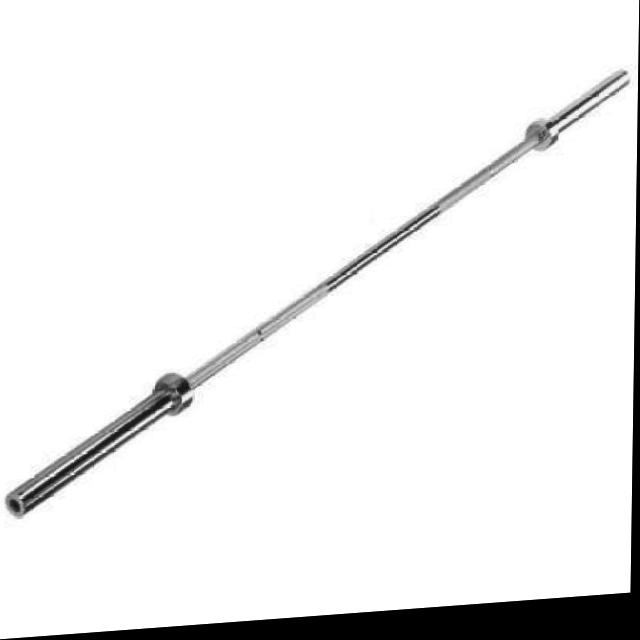barbell: (3, 369, 202, 526)
